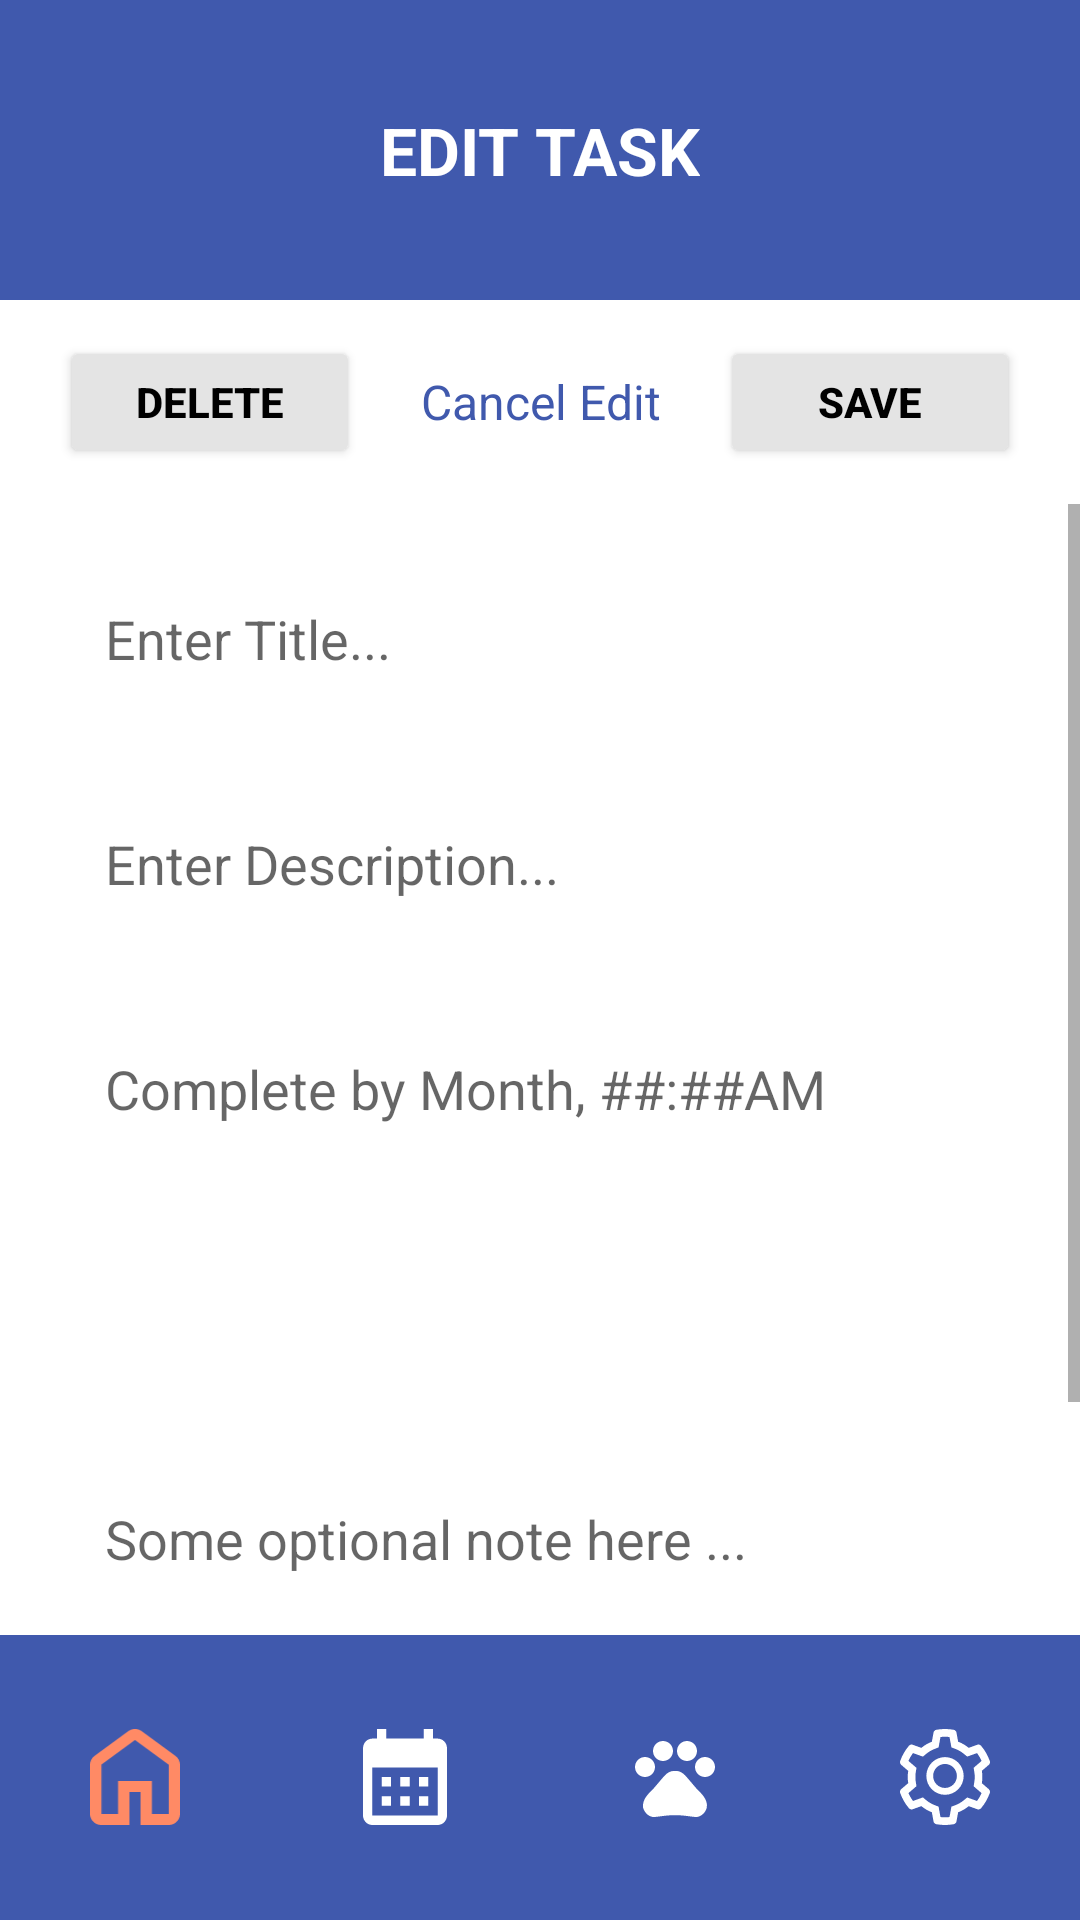

Where icons sit on this 1080x1920 app screen, as (x1, y1, x2, y2):
calendar: (363, 1729, 447, 1825)
home: (90, 1729, 180, 1825)
pets: (635, 1741, 715, 1817)
settings: (900, 1729, 990, 1825)
